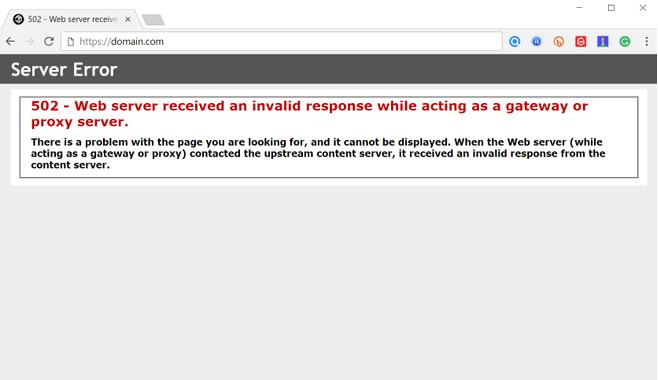error_message: (27, 98, 593, 131)
